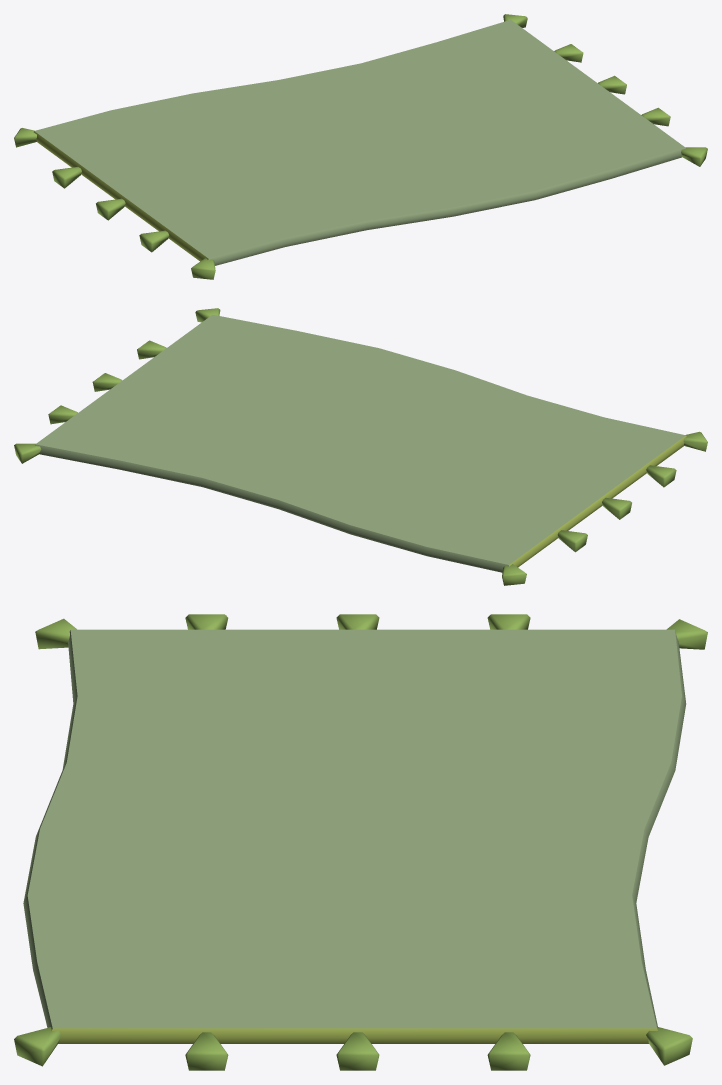
File: itch_tiny_pleasant_picnic_picnic_blanket_green.glb
3 views of the same model, one above another, from view 1: azimuth 30°, elevation 25°; view 2: azimuth 150°, elevation 25°; view 3: azimuth 270°, elevation 25° (orthographic). The views are drawn at different scales.
Visible parts, largest first — view 1: picnic_blanket_green; view 2: picnic_blanket_green; view 3: picnic_blanket_green.
Part boxes in pixels (x1,y1,x2,y2): picnic_blanket_green: (14,14,707,279); picnic_blanket_green: (14,308,707,585); picnic_blanket_green: (14,614,707,1070).
Size of the model in its own units: 0.96 by 0.0236 by 0.64.
